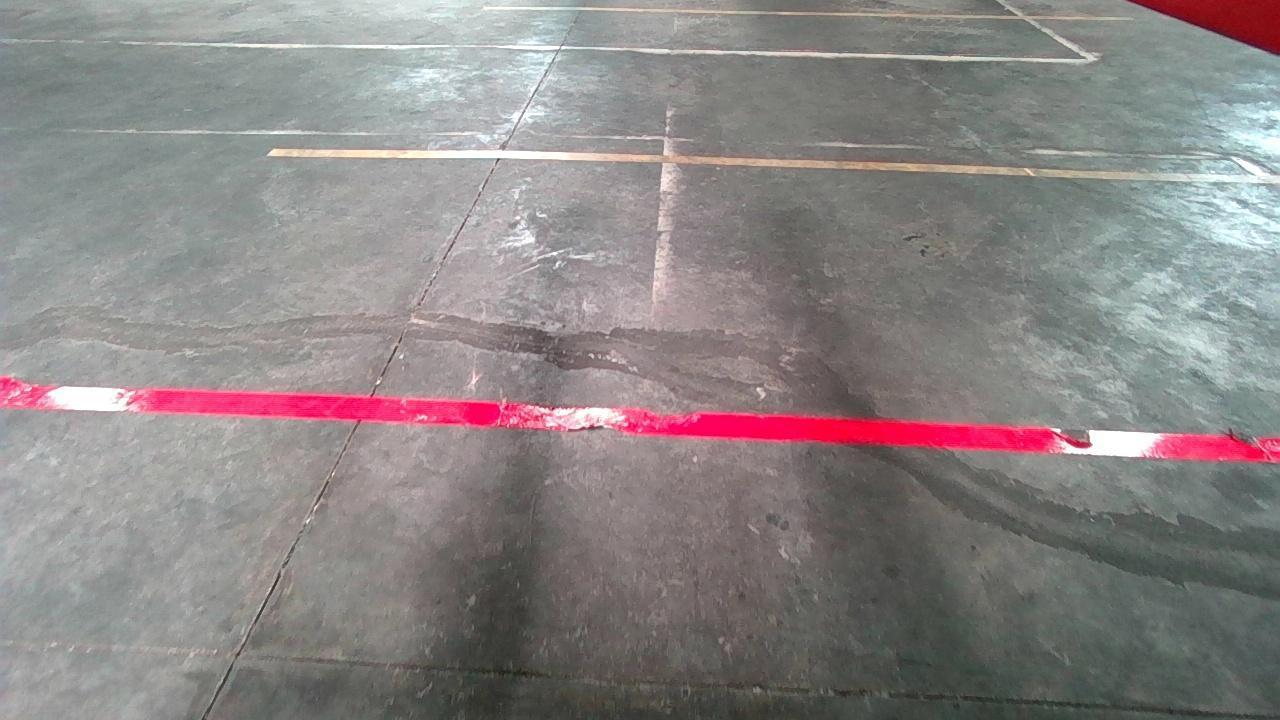yellow_line: (263, 146, 1266, 187)
